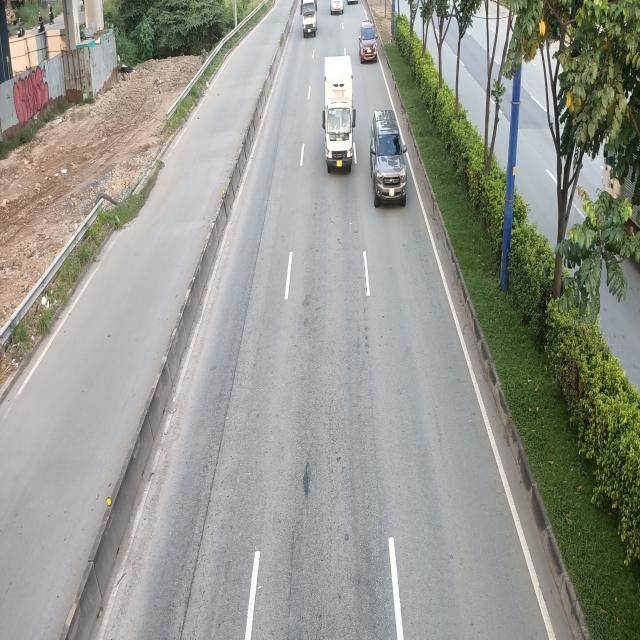car: (368, 108, 406, 208), (358, 19, 377, 62)
truck: (323, 55, 357, 174), (301, 0, 319, 37)
